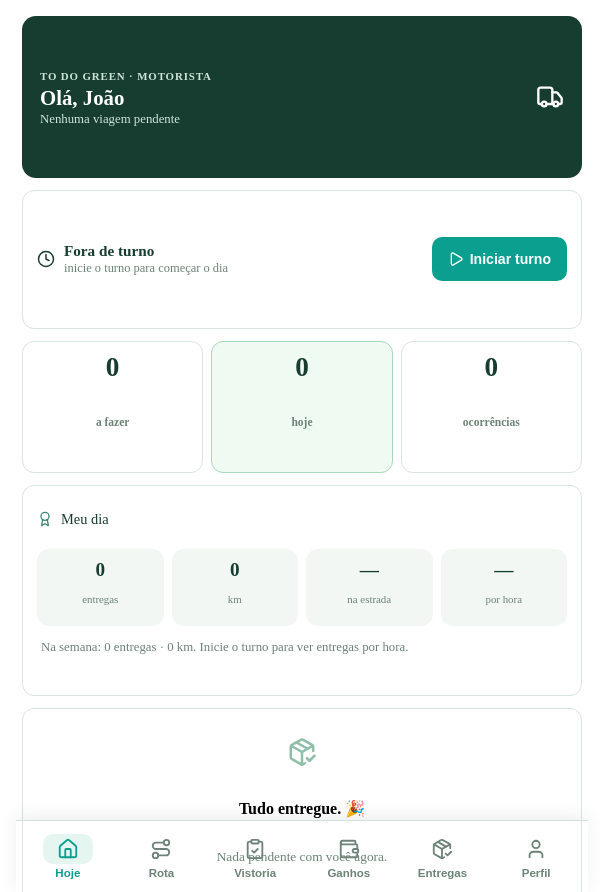
app do motorista — GreenPay (ganhos) › com régua, mostra ganhos do dia, saldos e extrato com memória
Check: the heading "Olá, João" is shown, box [40,86,124,110]
Click the button "Ganhos".
click(349, 856)  # box [303,827,395,886]
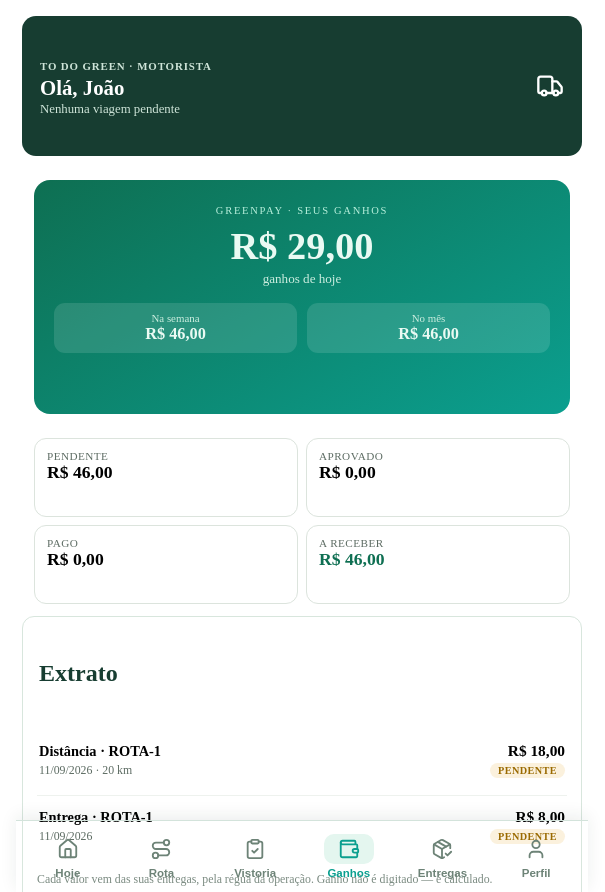
Check: the text "R$ 29,00" is shown, box [230,226,373,268]
Check: the heading "Extrato" is shown, box [39,660,118,686]
Check: the text "Distância · ROTA-1" is shown, box [39,743,161,760]
